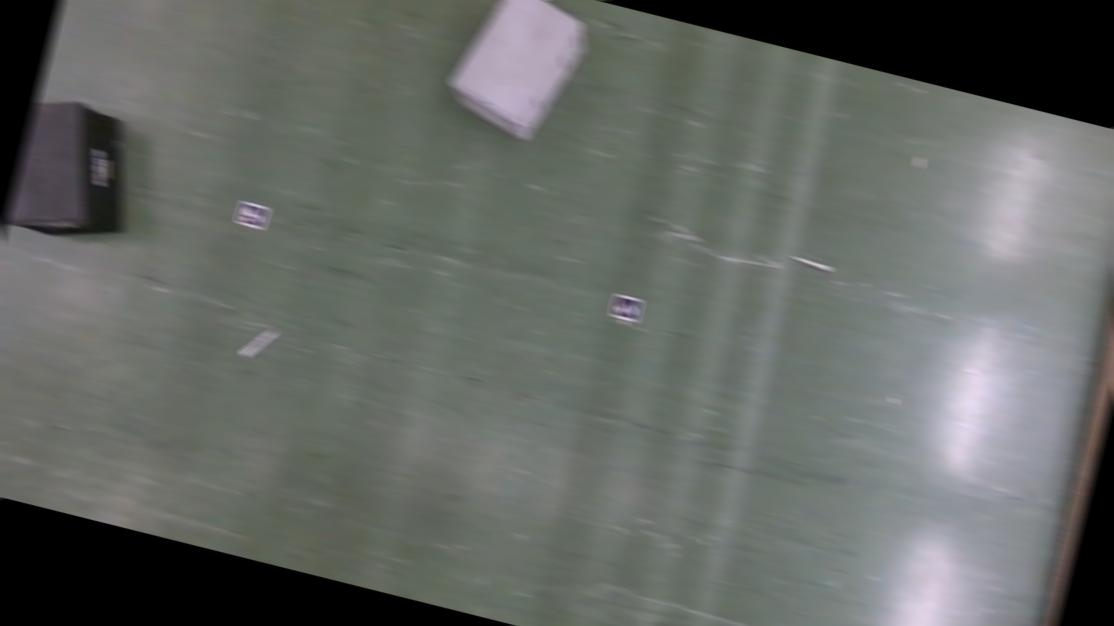probes: (240, 324, 276, 363)
rako: (439, 0, 596, 151), (3, 93, 150, 254)
